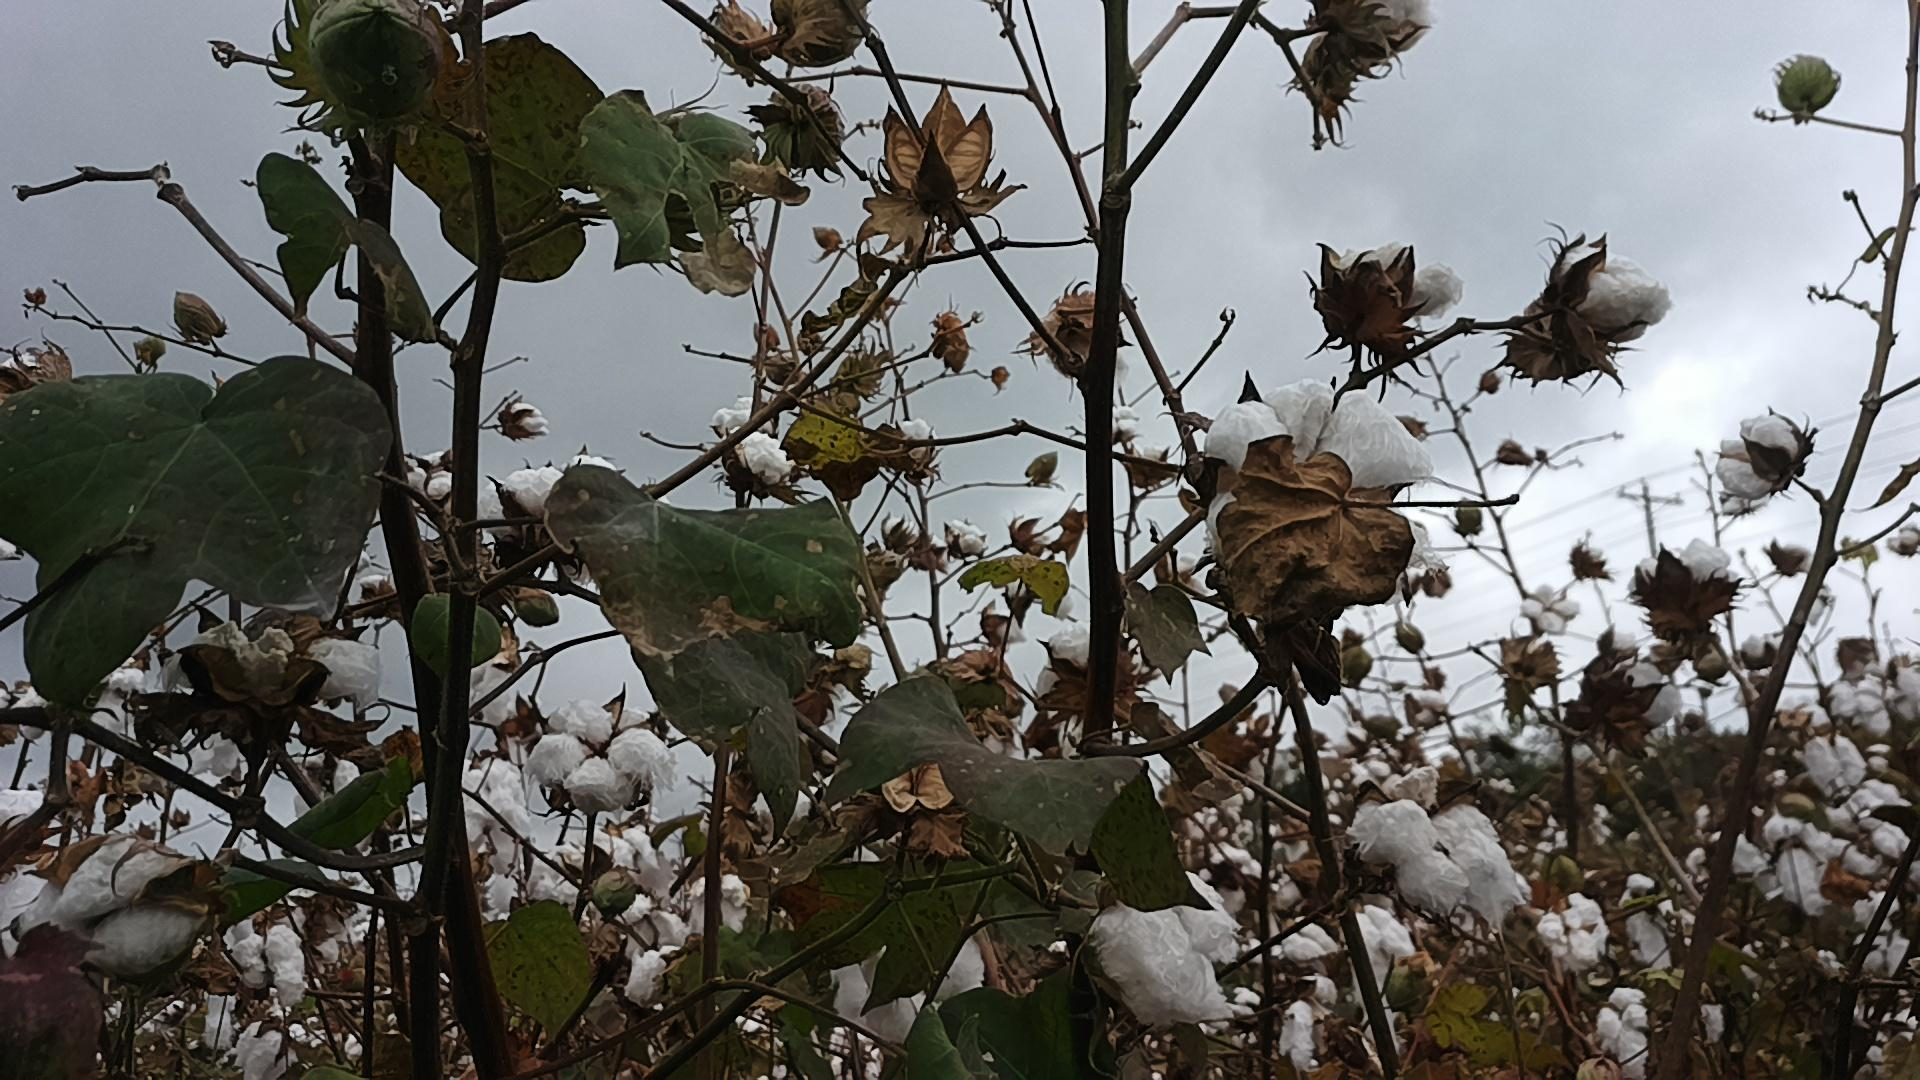cotton_ready: (1200, 381, 1428, 575), (1089, 868, 1233, 1031), (1354, 798, 1528, 928), (51, 836, 203, 985), (833, 923, 988, 1039), (527, 700, 673, 796), (1560, 251, 1672, 335), (496, 454, 621, 529), (1340, 245, 1460, 323), (0, 787, 55, 953), (559, 825, 642, 923), (465, 754, 534, 866), (1716, 415, 1808, 498), (712, 396, 795, 484), (301, 638, 386, 705), (1593, 989, 1659, 1076), (1353, 906, 1415, 998), (235, 927, 306, 1006), (1642, 535, 1730, 599), (1031, 629, 1095, 713), (1611, 654, 1676, 735), (1539, 898, 1602, 973)
